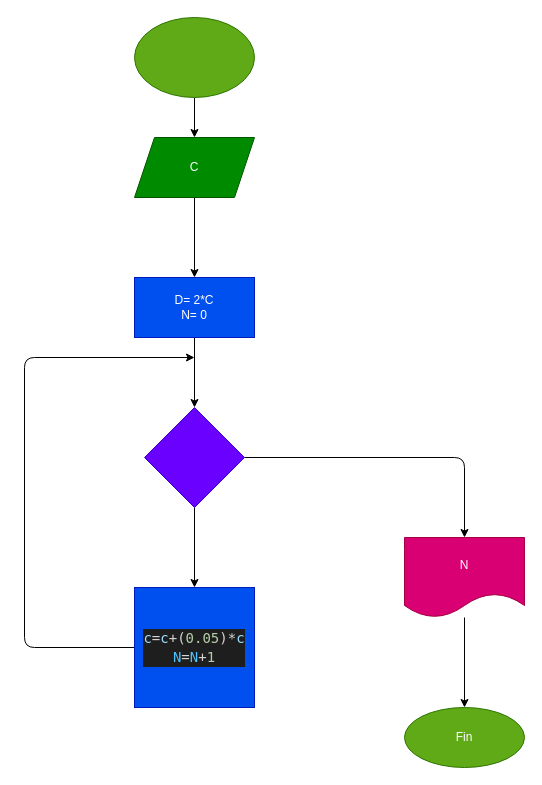
Image size: 542x785. Some labels were removed from this diagram. The centre of each missing label's shape, as x and y in pixels:
"C<D" goes at pixel 194 457.
"Inicio" goes at pixel 194 57.
